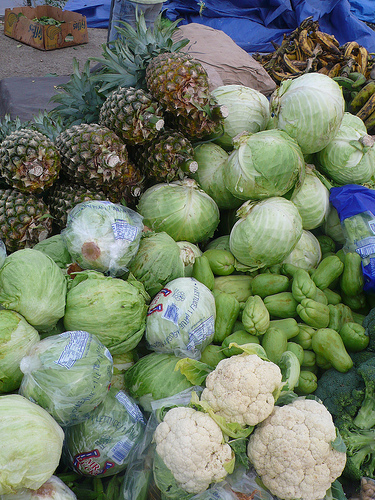cauliflower: (248, 393, 346, 498), (152, 405, 235, 498), (197, 352, 283, 432), (58, 197, 143, 277)
